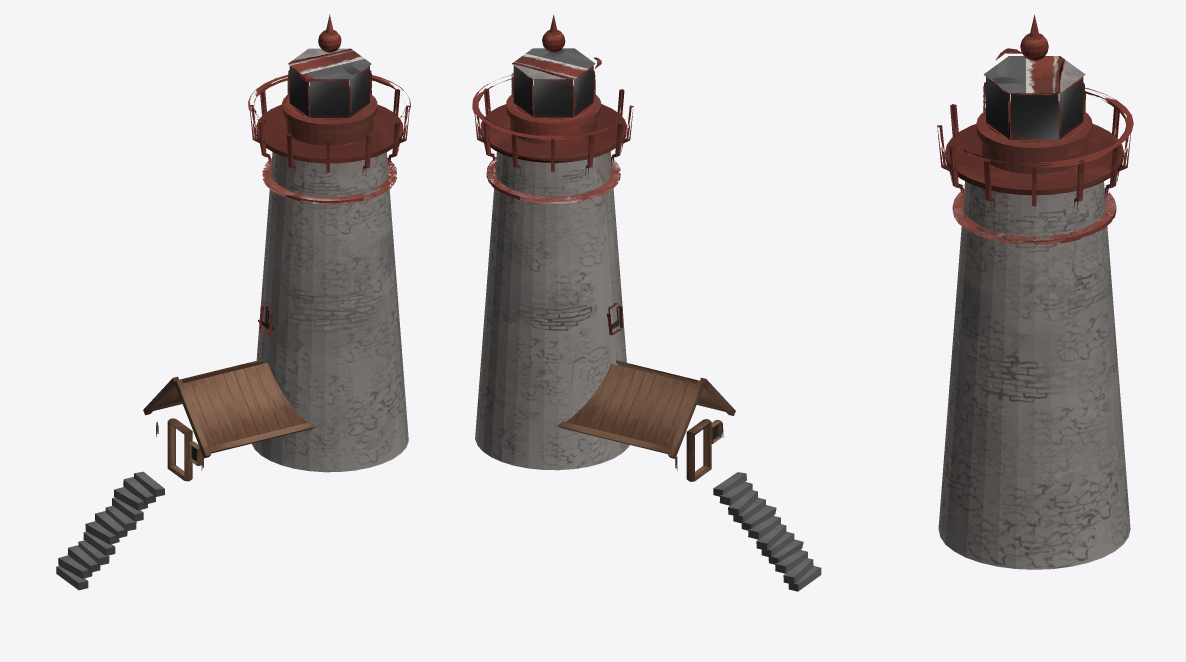
The model's file is Lighthouse04.fbx.
The picture shows the model from 3 angles, left to right: view 1: azimuth 30°, elevation 25°; view 2: azimuth 150°, elevation 25°; view 3: azimuth 270°, elevation 25°; orthographic projection. The views are drawn at different scales.
Parts seen in each view (by area): view 1: Lighthouse04; view 2: Lighthouse04; view 3: Lighthouse04.
Part boxes in pixels (x1=…): Lighthouse04: x1=56, y1=14, x2=410, y2=590; Lighthouse04: x1=472, y1=15, x2=821, y2=591; Lighthouse04: x1=937, y1=14, x2=1133, y2=569.
Size of the model in its own units: 19.48 by 26.86 by 10.53.
Materials: 6 (6 with a texture image).
